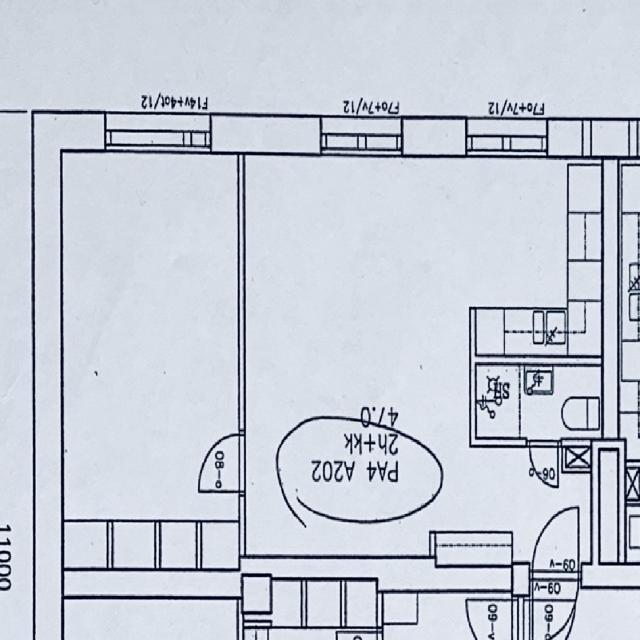door: (532, 500, 578, 588), (198, 435, 245, 491), (530, 439, 558, 486)
